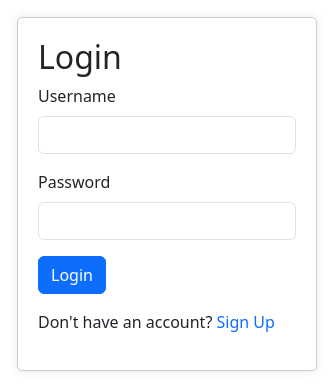
Test: it should display the sign up form if the user clicks on the 'Sign up' link
The width and height of the screenshot is (335, 389).
Click the text with test id "signUp-link" at (246, 322), box [216,311,275,333]
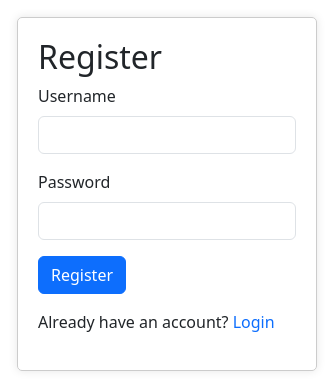
Expected: the button with test id "register-btn" is shown, [38,256,126,294]
